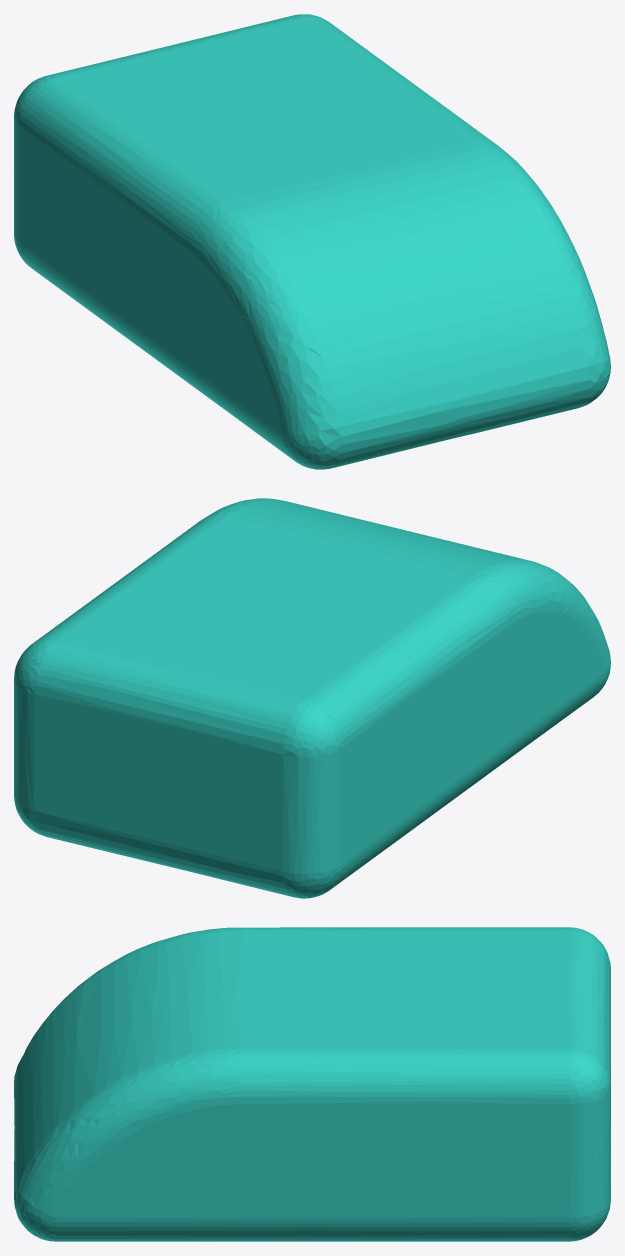
File: backpack_collision.obj
3 renders of one model, top to bottom at view 1: azimuth 30°, elevation 25°; view 2: azimuth 150°, elevation 25°; view 3: azimuth 270°, elevation 25°, orthographic. The views are drawn at different scales.
Parts seen in each view (by area): view 1: Body1; view 2: Body1; view 3: Body1.
Part boxes in pixels (<box>): Body1: <box>14,14,610,469</box>; Body1: <box>14,498,610,898</box>; Body1: <box>14,927,610,1241</box>.
Bounding box in the file's own units: 26 × 15 × 42.93.
